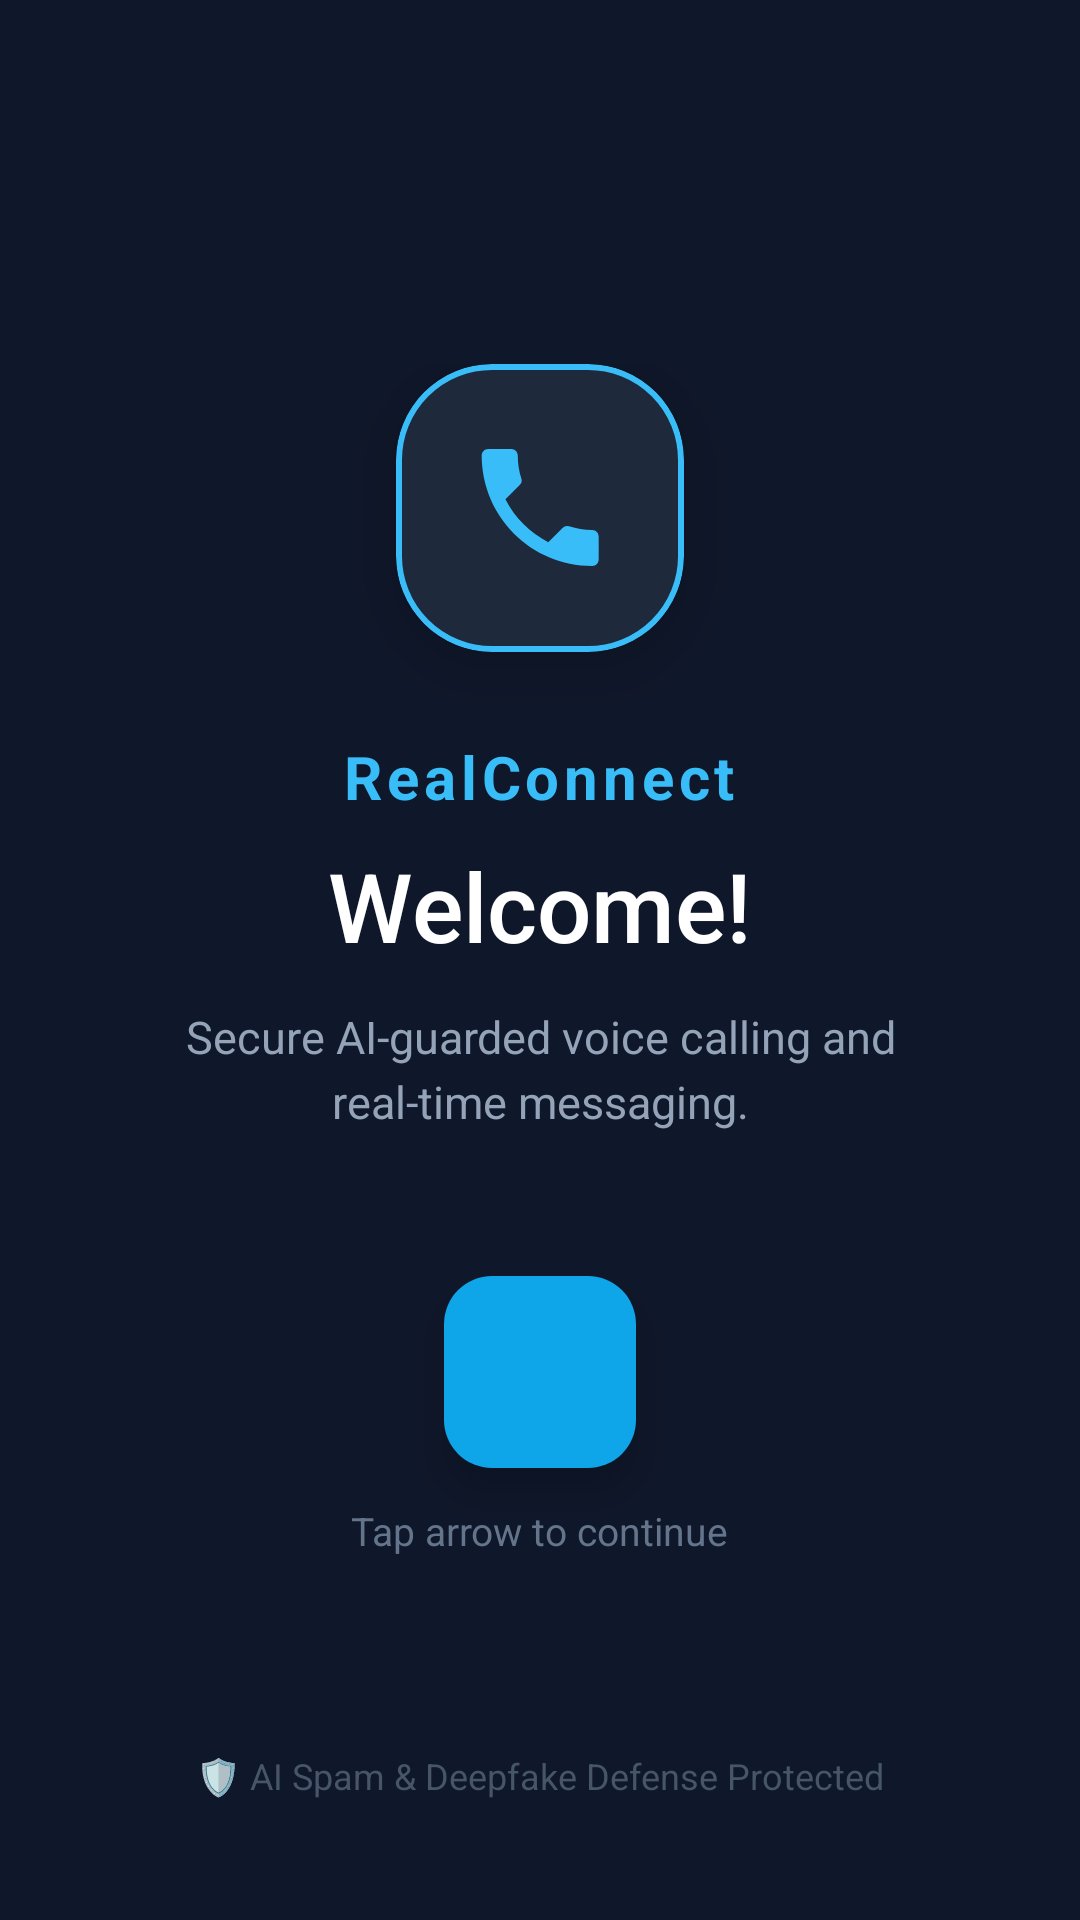

Icons on this 1080px×1920px Android screen, each with the point to tap as (x=x, y=y):
call: (x=540, y=508)
